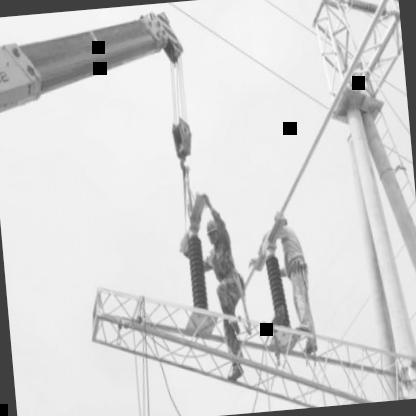helmet: (204, 214, 220, 250)
